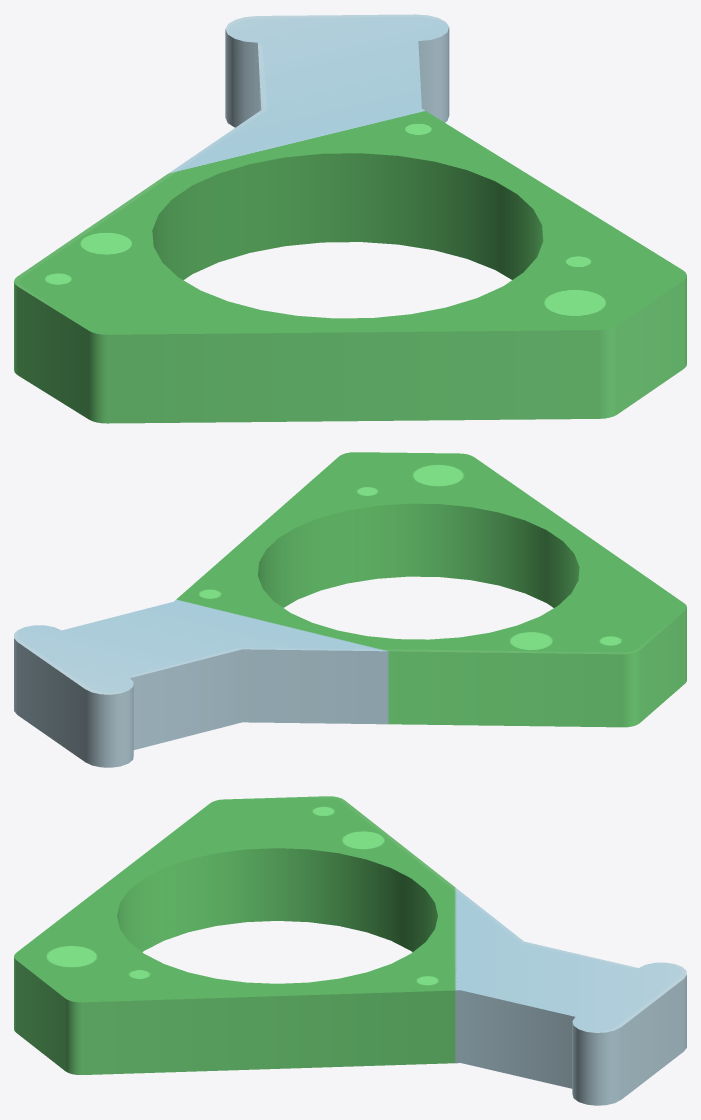
Rendered from Bottle.FBX.
The picture shows the model from 3 angles, top to bottom: view 1: azimuth 30°, elevation 25°; view 2: azimuth 150°, elevation 25°; view 3: azimuth 270°, elevation 25°; orthographic projection. The views are drawn at different scales.
Visible parts, largest first — view 1: Bottle; view 2: Bottle; view 3: Bottle.
Boxes of the visible parts, x1=… form: Bottle: x1=14, y1=14, x2=686, y2=423; Bottle: x1=14, y1=452, x2=686, y2=767; Bottle: x1=14, y1=796, x2=686, y2=1105.
Bounding box in the file's own units: 48.87 × 7 × 58.69.
Materials: 1 (1 with a texture image).
